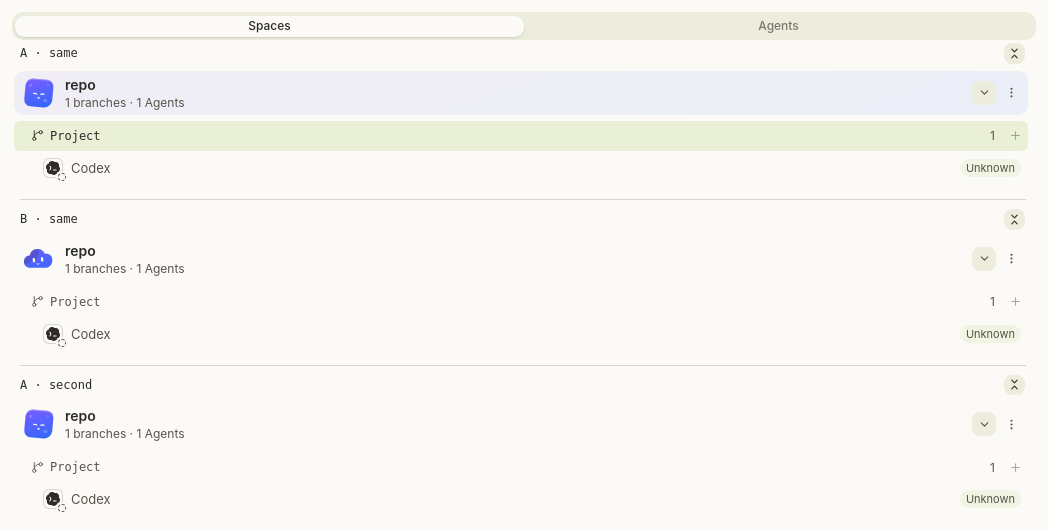
Test: collapses and expands only the requested Session, including same-named Sessions on different hosts
Click the button named "Collapse Spaces in B · same" at (1015, 219), box [1003, 208, 1026, 231]
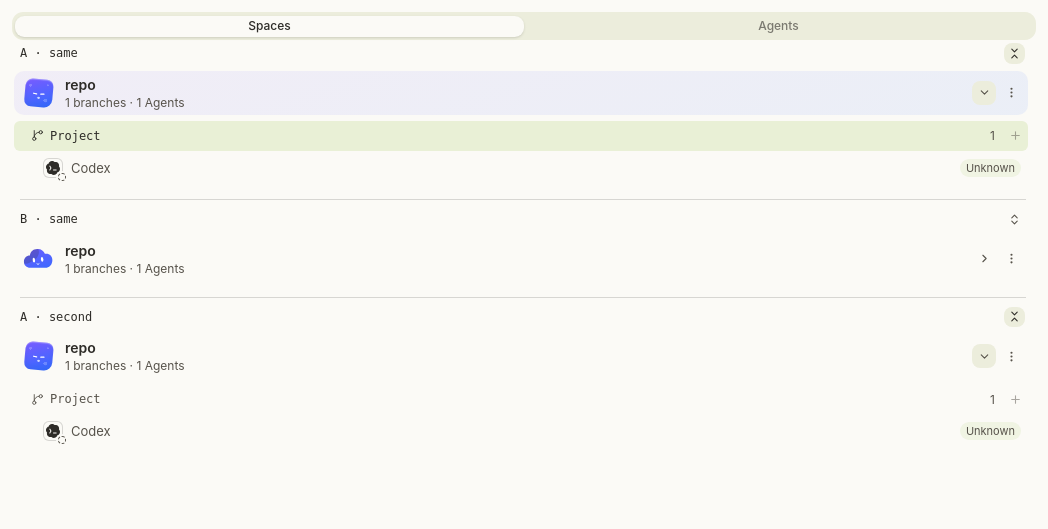
Result: the number of list items is 7
Result: the button named "Expand Spaces in B · same" is collapsed
Click the button named "Expand Spaces in B · same" at (1015, 219), box [1003, 208, 1026, 231]
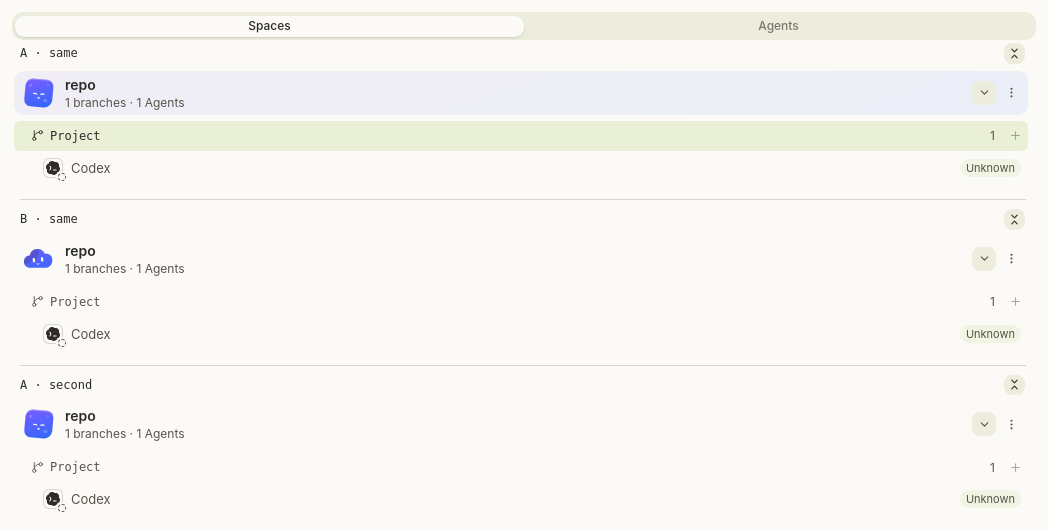
Result: the number of list items is 9
Result: the button named "Collapse Spaces in B · same" is expanded at [1003, 208, 1026, 231]
Press ArrowLeft in the 2nd list item "repo 1 branches · 1 Agents", box [14, 236, 971, 280]
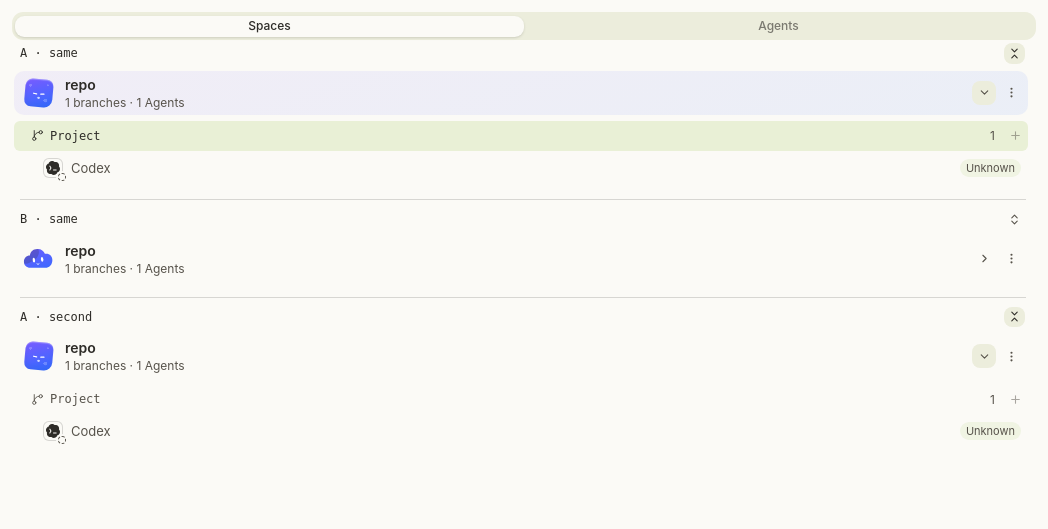
Click the button named "Expand Spaces in B · same" at (1015, 219), box [1003, 208, 1026, 231]
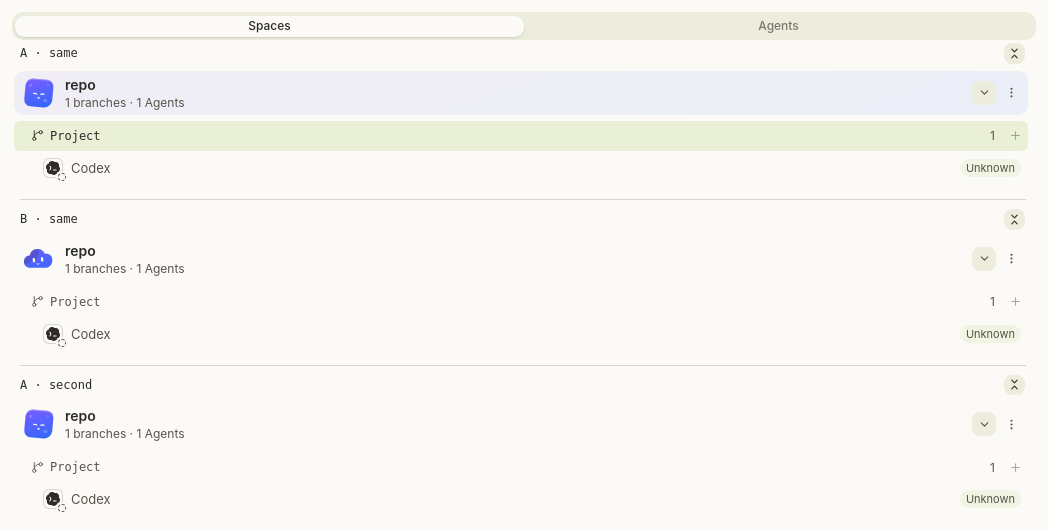
Result: the number of list items is 9
